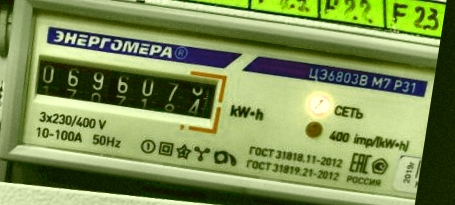0: (138, 74, 157, 98), (39, 61, 56, 84)
4: (186, 94, 202, 117)
6: (64, 64, 81, 87), (114, 72, 131, 94)
7: (163, 80, 181, 103)
9: (89, 68, 105, 91)
screen: (19, 42, 232, 132)
